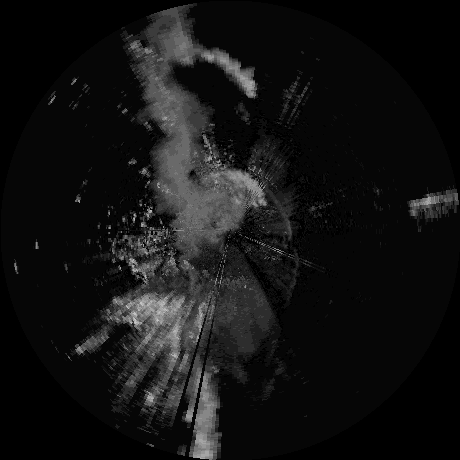frontgust: (260, 178, 295, 236)
